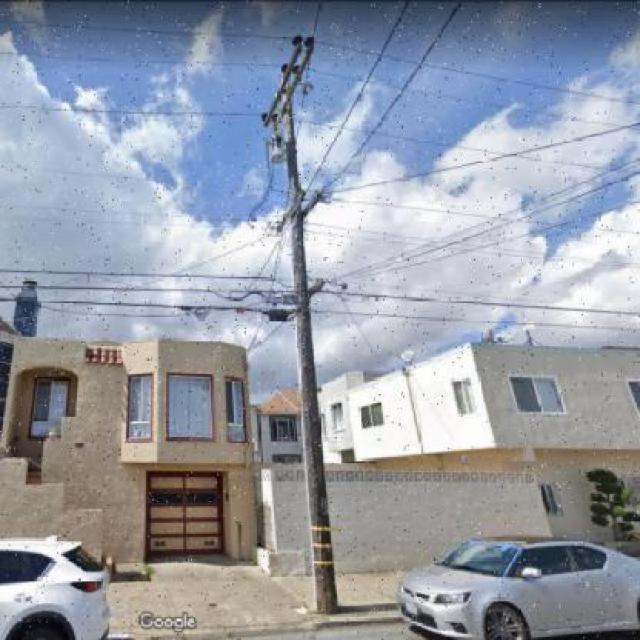pole: (238, 17, 385, 621)
